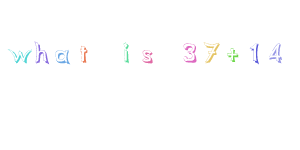+: (225, 46, 240, 63)
1: (247, 40, 262, 64)
3: (182, 40, 197, 64)
4: (267, 41, 284, 64)
7: (203, 41, 221, 64)
a: (54, 48, 71, 64)
h: (34, 40, 50, 64)
i: (120, 41, 132, 63)
s: (140, 48, 155, 64)
t: (77, 44, 89, 63)
w: (7, 47, 32, 63)
